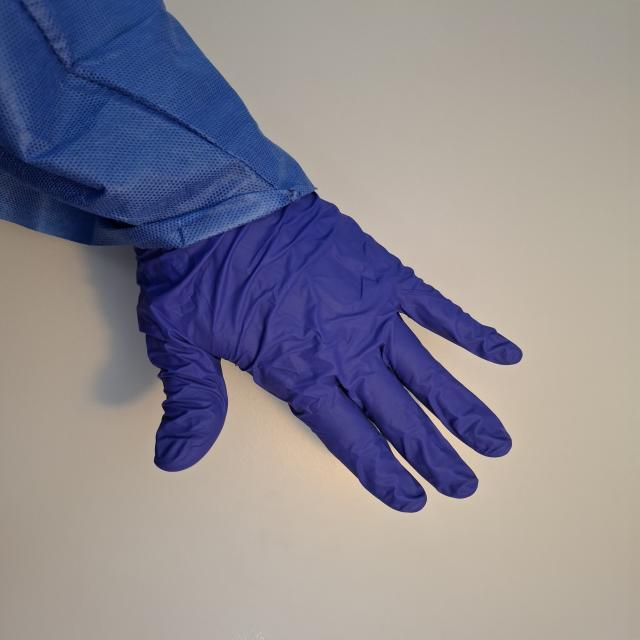glove_on: (128, 187, 527, 514)
